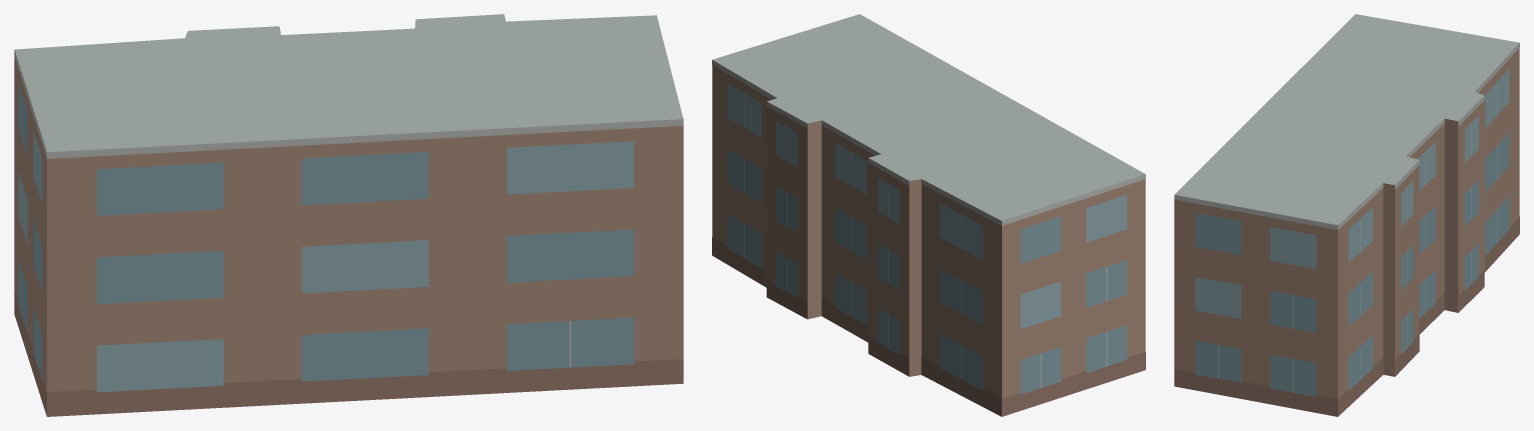
Rendered from survey-upis-32530352.glb.
3 views of the same model, side by side, from view 1: azimuth 30°, elevation 25°; view 2: azimuth 150°, elevation 25°; view 3: azimuth 270°, elevation 25° (orthographic). The views are drawn at different scales.
Visible parts, largest first — view 1: survey-upis-32530352.tmp; view 2: survey-upis-32530352.tmp; view 3: survey-upis-32530352.tmp.
Part boxes in pixels (x1=…): survey-upis-32530352.tmp: x1=14, y1=14, x2=683, y2=416; survey-upis-32530352.tmp: x1=712, y1=14, x2=1145, y2=416; survey-upis-32530352.tmp: x1=1174, y1=14, x2=1519, y2=416.
Bounding box in the file's own units: 22.94 × 9.7 × 15.86.
